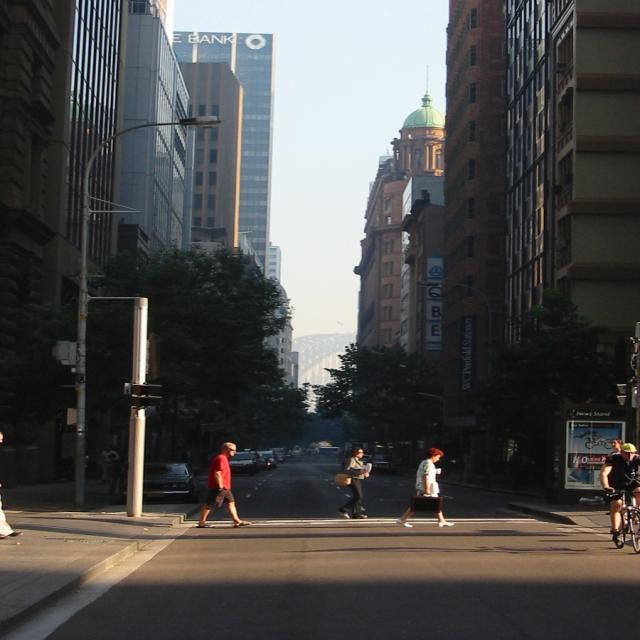body: (194, 441, 254, 530), (392, 446, 457, 528), (598, 442, 640, 532), (332, 446, 372, 520), (0, 432, 23, 543), (94, 445, 126, 492), (606, 438, 624, 457)
